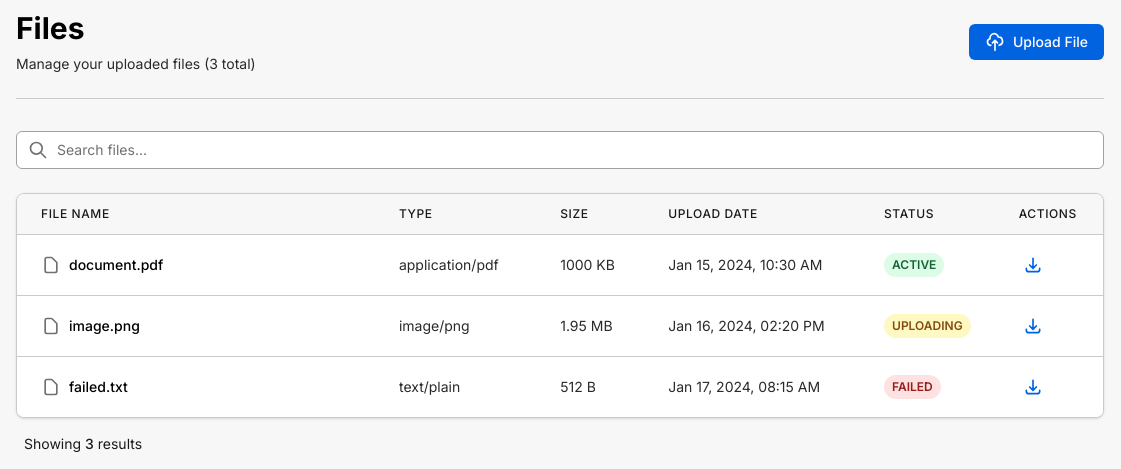
Test: FilesPage › Search functionality › should be case-insensitive
Type "IMAGE" into the field with placeholder "Search files..." at {"x": 560, "y": 150}, box [16,131,1104,169]
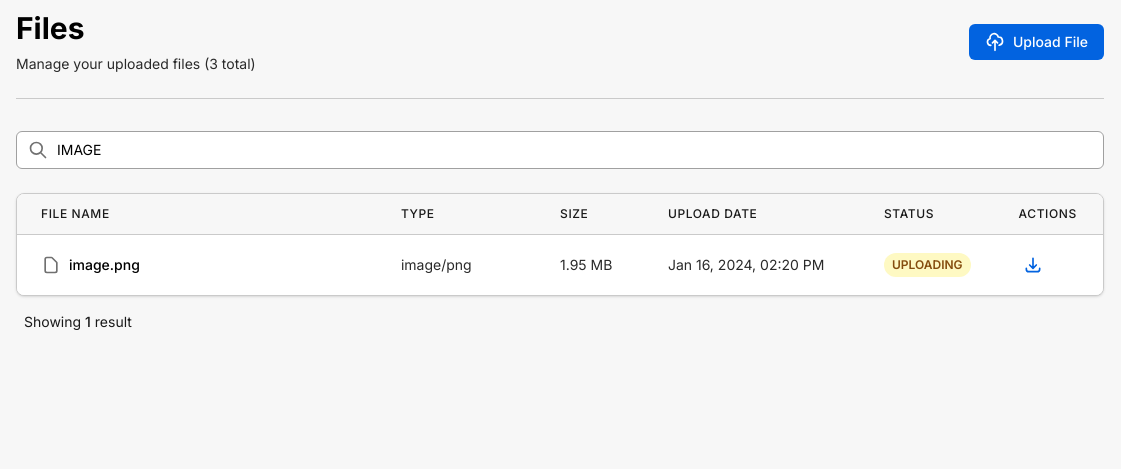
Expected: the text "image.png" is shown, [69,255,140,275]
Now the text "document.pdf" is gone
